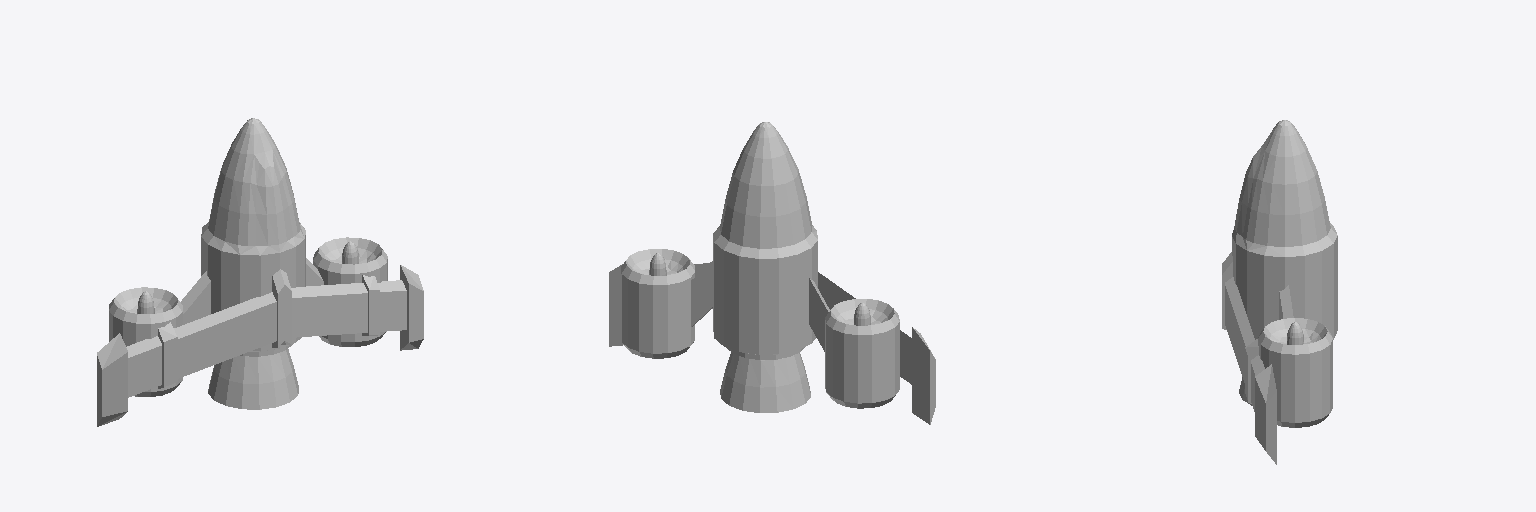
File: rocket.obj
3 renders of one model, left to right at view 1: azimuth 30°, elevation 25°; view 2: azimuth 150°, elevation 25°; view 3: azimuth 270°, elevation 25°, orthographic.
Parts seen in each view (by area): view 1: Spaceship; view 2: Spaceship; view 3: Spaceship.
Part boxes in pixels (left/top/right/bottom): Spaceship: left=97, top=118, right=423, bottom=426; Spaceship: left=609, top=122, right=935, bottom=424; Spaceship: left=1222, top=120, right=1337, bottom=464.
Bounding box in the file's own units: 7.27 × 5.88 × 2.26.